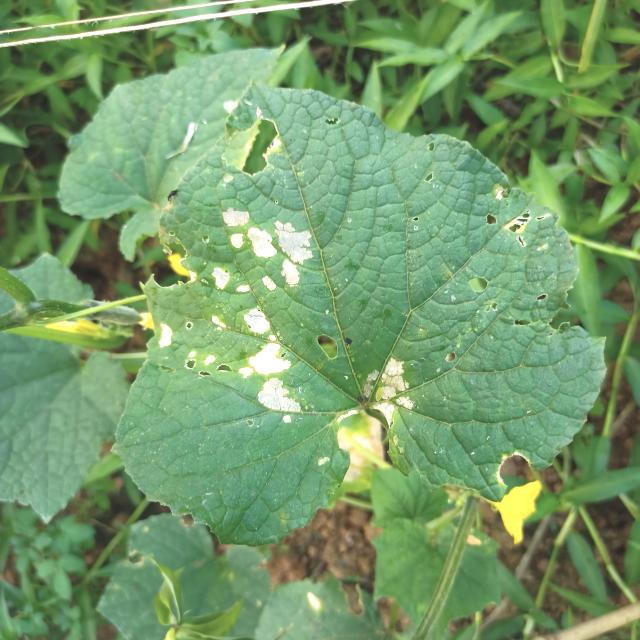disease_cucumber: (193, 184, 320, 430), (348, 343, 422, 432)
